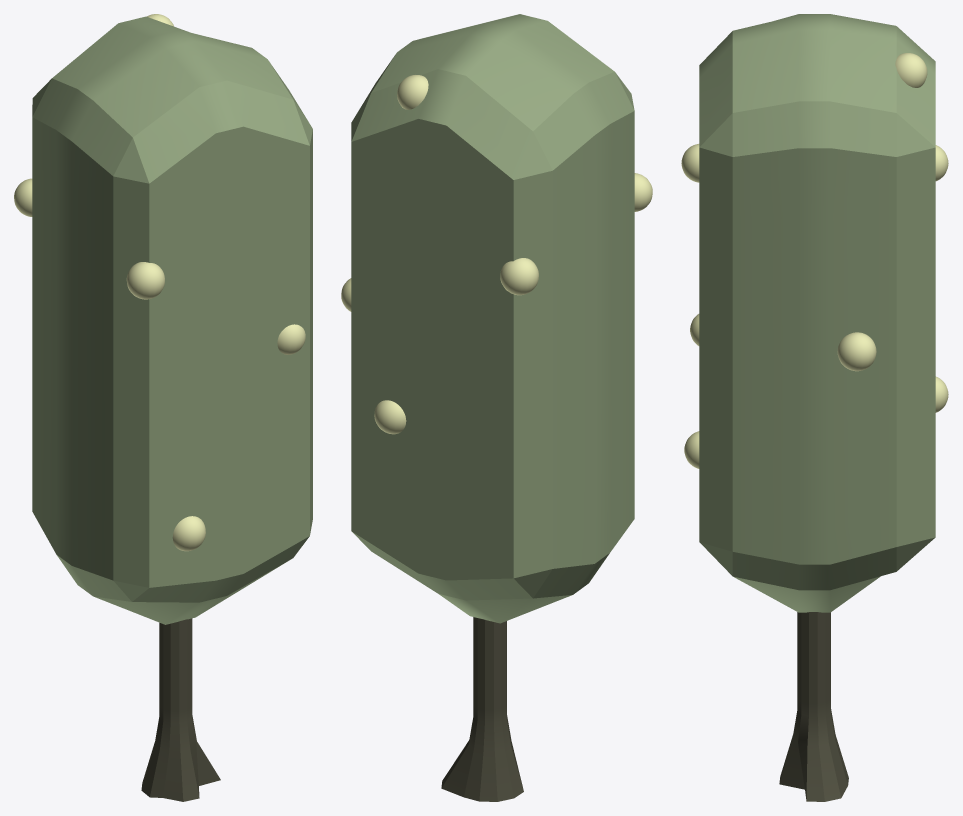
Rendered from Forest_Tree_High_01_v1.fbx.
3 renders of one model, left to right at view 1: azimuth 30°, elevation 25°; view 2: azimuth 150°, elevation 25°; view 3: azimuth 270°, elevation 25°, orthographic.
Parts seen in each view (by area): view 1: Crown_Big2, Bark1, pSphere1, pSphere5, pSphere2, pSphere6; view 2: Crown_Big2, Bark1, pSphere6, pSphere7, pSphere3, pSphere1; view 3: Crown_Big2, Bark1, pSphere4, pSphere3, pSphere1.
Part boxes in pixels (left/top/right/bottom): Crown_Big2: left=32, top=16, right=312, bottom=624; Bark1: left=141, top=618, right=220, bottom=801; pSphere1: left=126, top=262, right=164, bottom=299; pSphere5: left=172, top=516, right=205, bottom=551; pSphere2: left=277, top=324, right=305, bottom=354; pSphere6: left=14, top=178, right=32, bottom=216; Crown_Big2: left=351, top=14, right=634, bottom=623; Bark1: left=441, top=617, right=523, bottom=801; pSphere6: left=500, top=258, right=538, bottom=295; pSphere7: left=374, top=400, right=406, bottom=434; pSphere3: left=397, top=75, right=428, bottom=109; pSphere1: left=634, top=173, right=652, bottom=211; Crown_Big2: left=699, top=14, right=935, bottom=612; Bark1: left=779, top=612, right=848, bottom=801; pSphere4: left=837, top=332, right=876, bottom=371; pSphere3: left=895, top=53, right=927, bottom=87; pSphere1: left=681, top=144, right=699, bottom=182.
Size of the model in its own units: 6.25 by 19 by 6.07.
